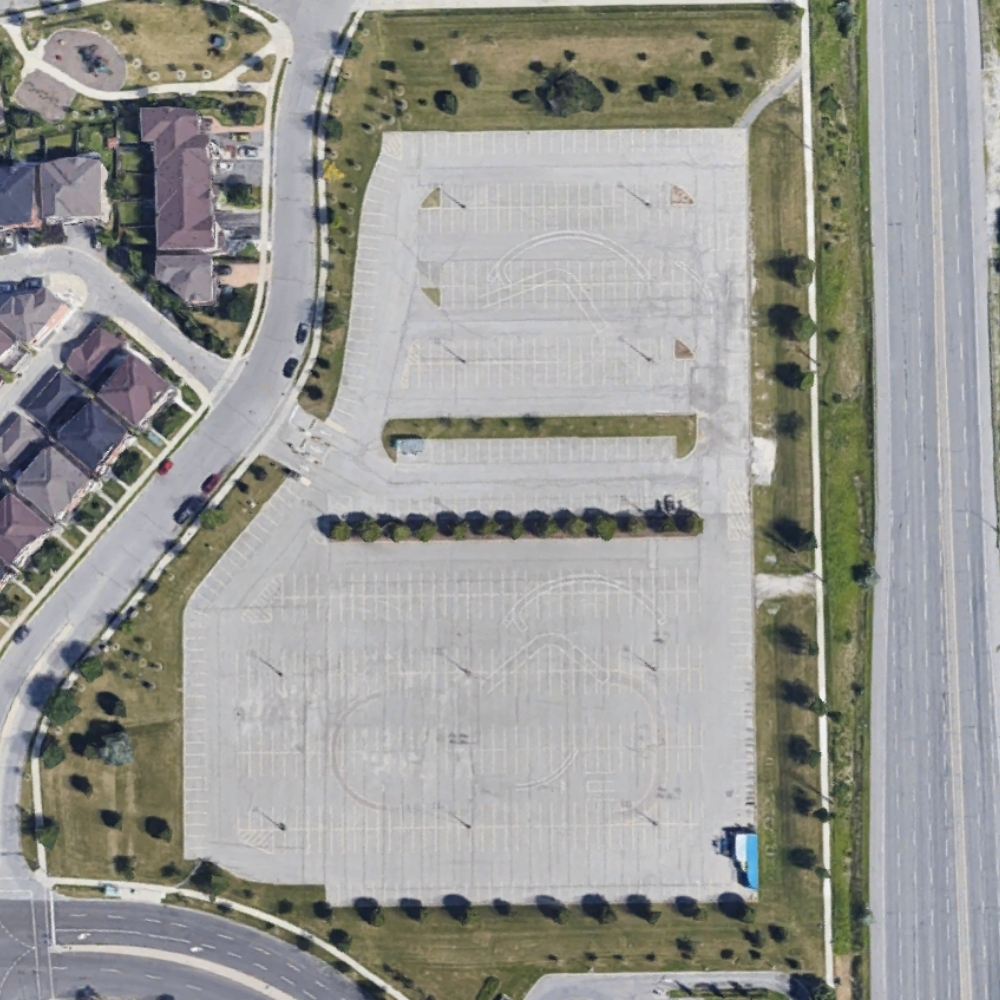parking: (185, 130, 760, 905)
